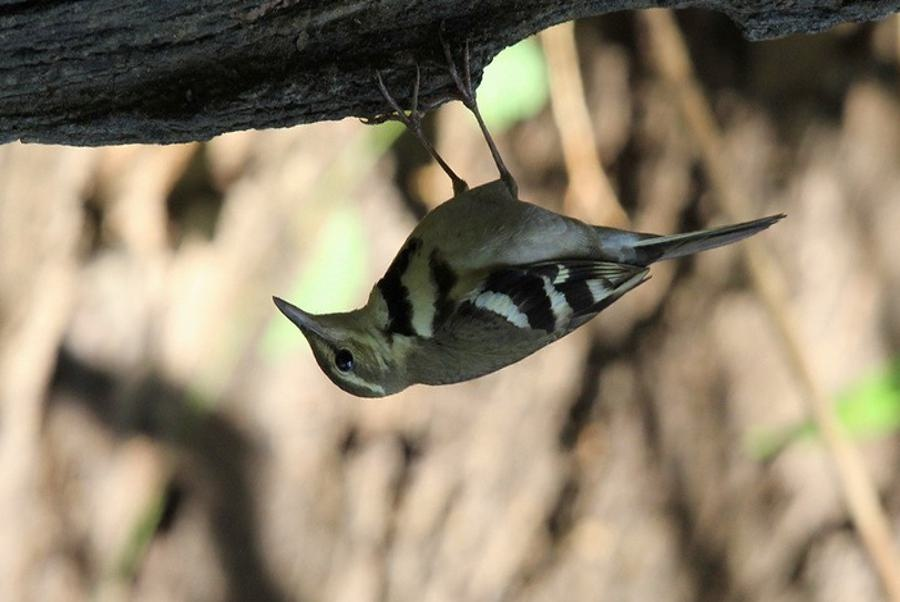wagtail: (305, 115, 713, 411)
